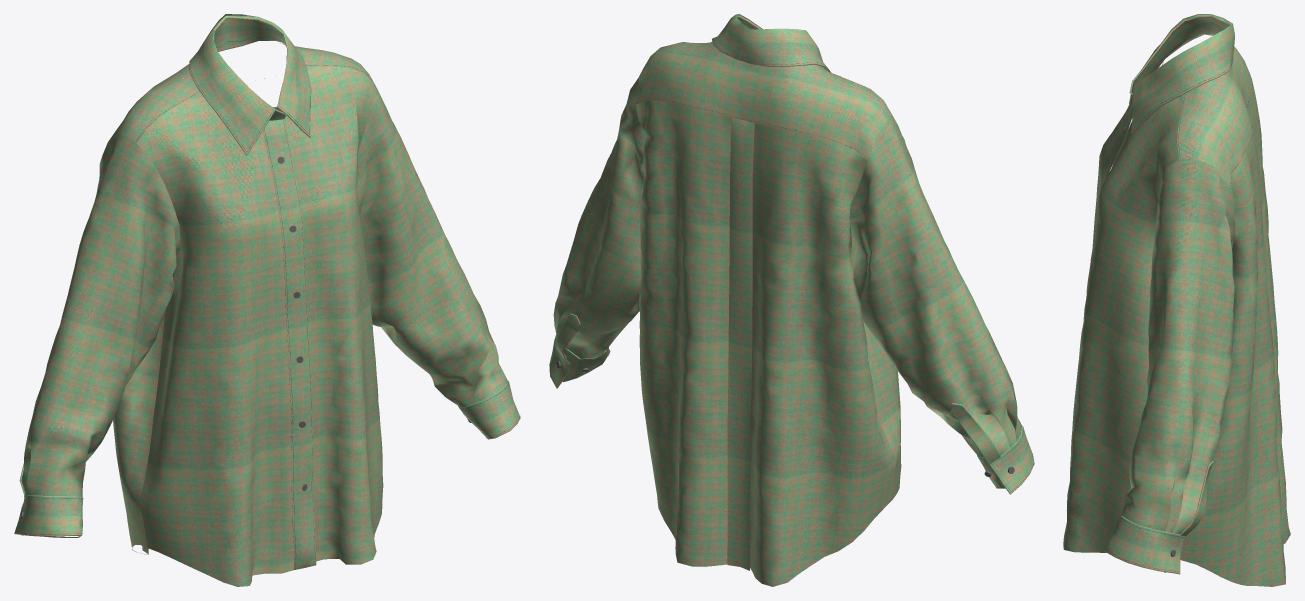
The picture shows the model from 3 angles, left to right: view 1: azimuth 30°, elevation 25°; view 2: azimuth 150°, elevation 25°; view 3: azimuth 270°, elevation 25°; orthographic projection. The views are drawn at different scales.
Visible parts, largest first — view 1: Cloth; view 2: Cloth; view 3: Cloth.
Boxes of the visible parts, <box> form: Cloth: <box>14,14,520,586</box>; Cloth: <box>549,14,1034,586</box>; Cloth: <box>1063,14,1290,586</box>.
Size of the model in its own units: 0.8011 by 0.8495 by 0.3244.
Materials: 8 (6 with a texture image).
